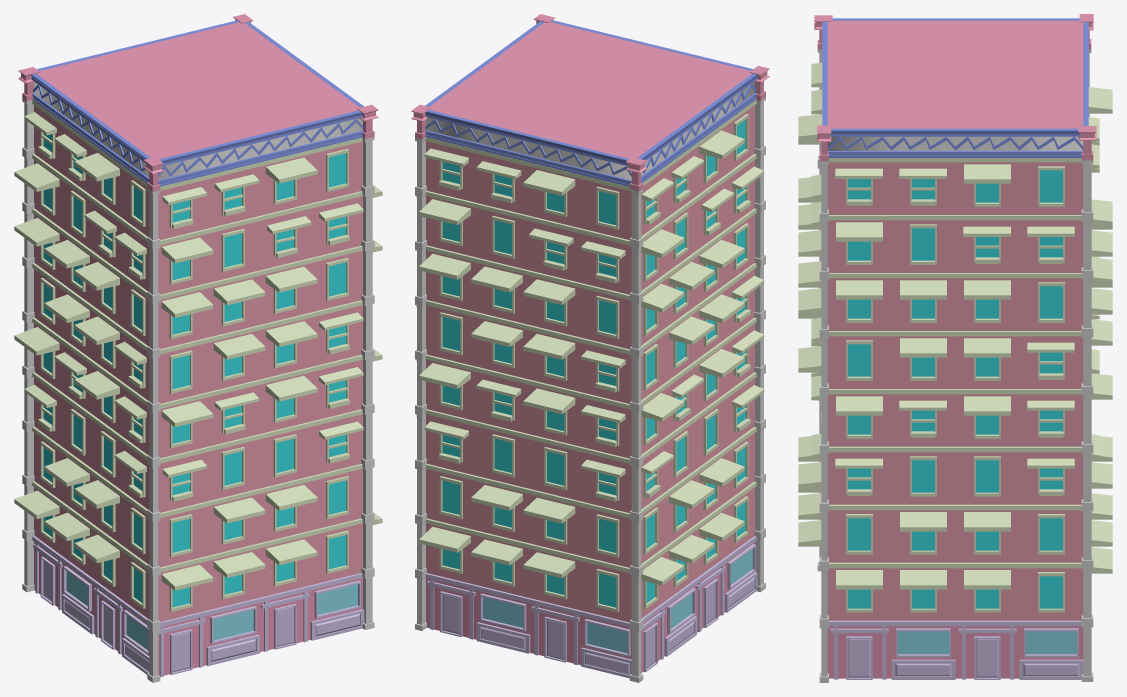
Rendered from PRP_New_Building_01.fbx.
The picture shows the model from 3 angles, left to right: view 1: azimuth 30°, elevation 25°; view 2: azimuth 150°, elevation 25°; view 3: azimuth 270°, elevation 25°; orthographic projection. The views are drawn at different scales.
Visible parts, largest first — view 1: Cube; view 2: Cube; view 3: Cube.
Part boxes in pixels (x1,y1,x2,y2): Cube: [14, 14, 382, 682]; Cube: [411, 14, 769, 682]; Cube: [798, 14, 1112, 682].
Size of the model in its own units: 491 by 951 by 491.
